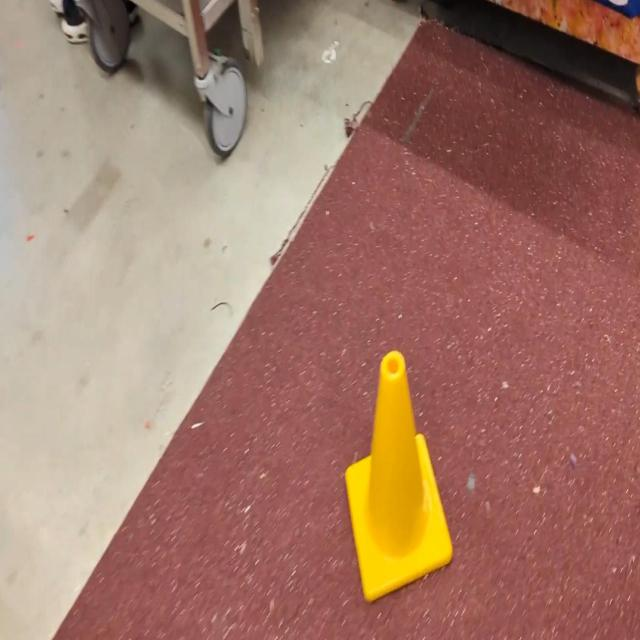frc_cone: (345, 348, 453, 600)
